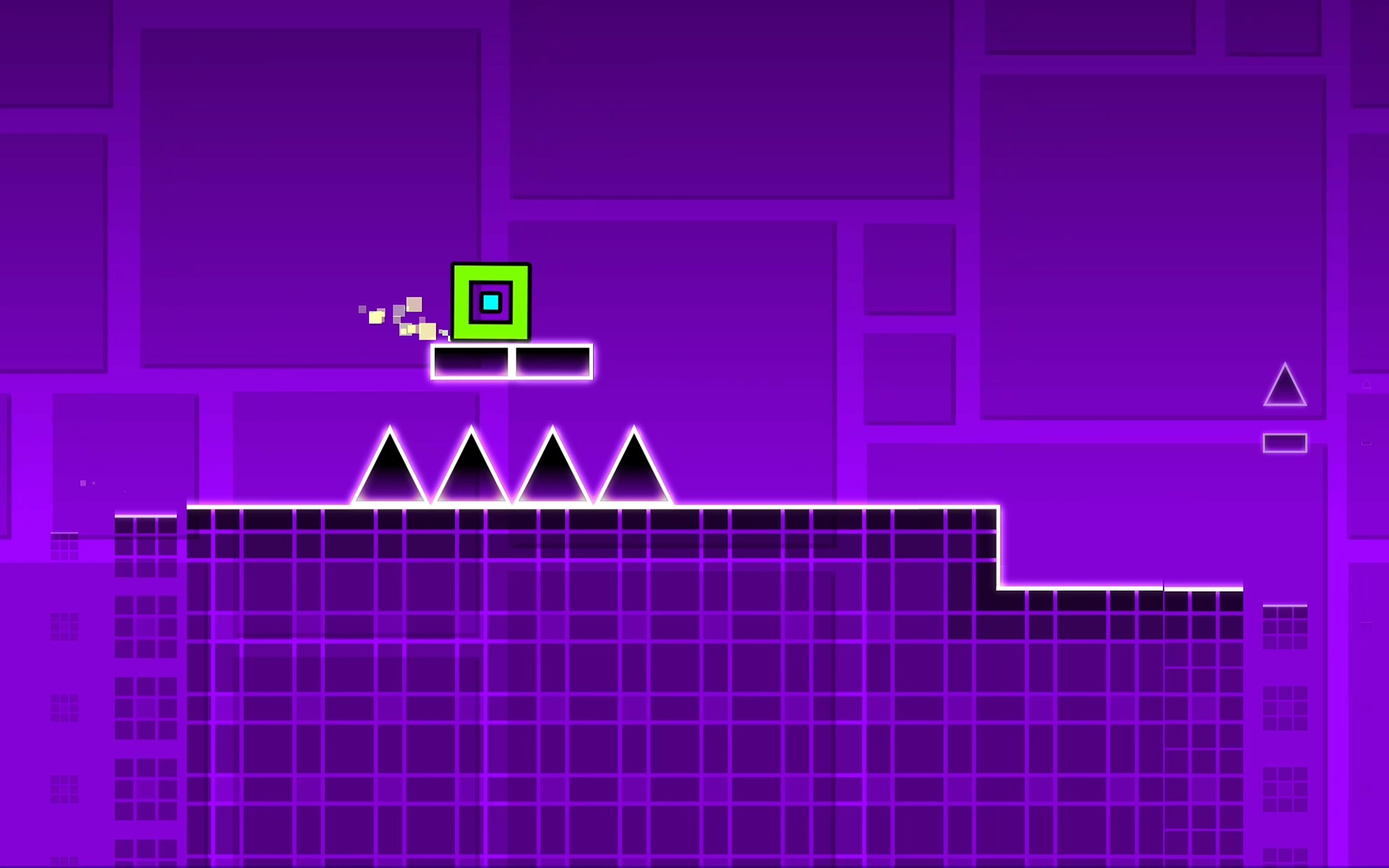Block2: (116, 508, 999, 868), (997, 584, 1314, 868)
Block3: (421, 343, 518, 379), (516, 343, 594, 383), (1262, 434, 1307, 451)
Player: (449, 262, 529, 339)
Spike: (352, 426, 425, 503), (598, 426, 671, 503), (517, 426, 589, 501), (436, 426, 508, 501), (1263, 363, 1306, 407)
